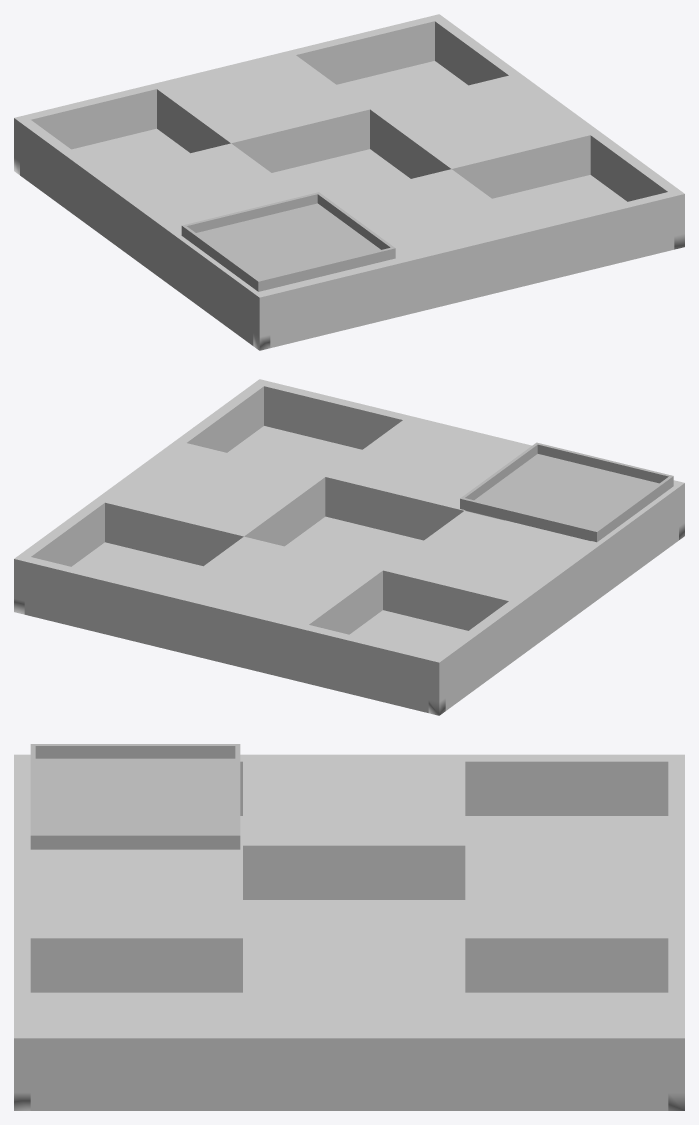
File: BoiteEnigmesV1.fbx
3 renders of one model, top to bottom at view 1: azimuth 30°, elevation 25°; view 2: azimuth 150°, elevation 25°; view 3: azimuth 270°, elevation 25°, orthographic. The views are drawn at different scales.
Parts seen in each view (by area): view 1: BOITE, Support; view 2: BOITE, Support; view 3: BOITE, Support.
Part boxes in pixels (left/top/right/bottom): BOITE: left=14, top=14, right=684, bottom=350; Support: left=181, top=192, right=395, bottom=291; BOITE: left=14, top=379, right=684, bottom=715; Support: left=460, top=442, right=673, bottom=542; BOITE: left=14, top=754, right=684, bottom=1110; Support: left=30, top=744, right=240, bottom=849.
Size of the model in its own units: 599 by 85.34 by 599.
Materials: 2 (1 with a texture image).
